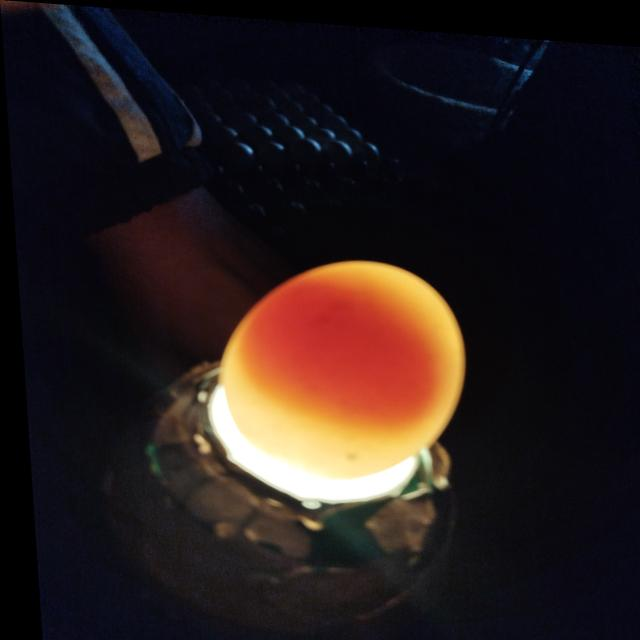Gema Quebrada: (234, 272, 434, 428)
